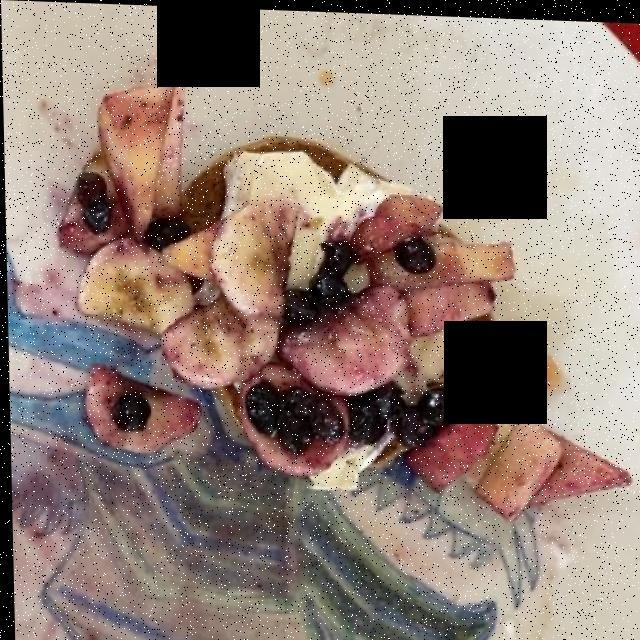fruit-salad: (60, 77, 629, 508)
pancakes: (169, 132, 494, 385)
